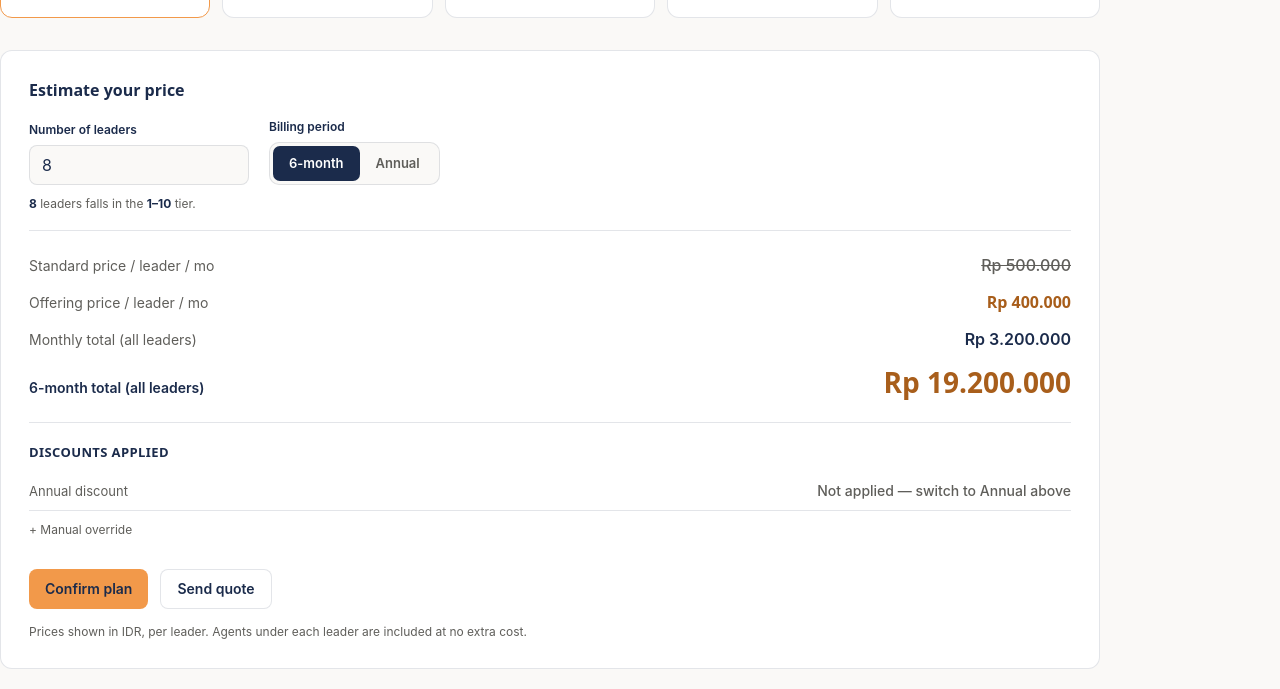
Test case: the quote tool (P13.2-T2) › AC-5: the manual override and its Fixes › sets the value to 0 when the type changes, and groups an amount as it is typed
(page scrolled)
Expected: the heading "Estimate your price" is shown, [29,79,185,101]
Click the heading "Manual override".
click(86, 530)  # box [40,522,132,537]
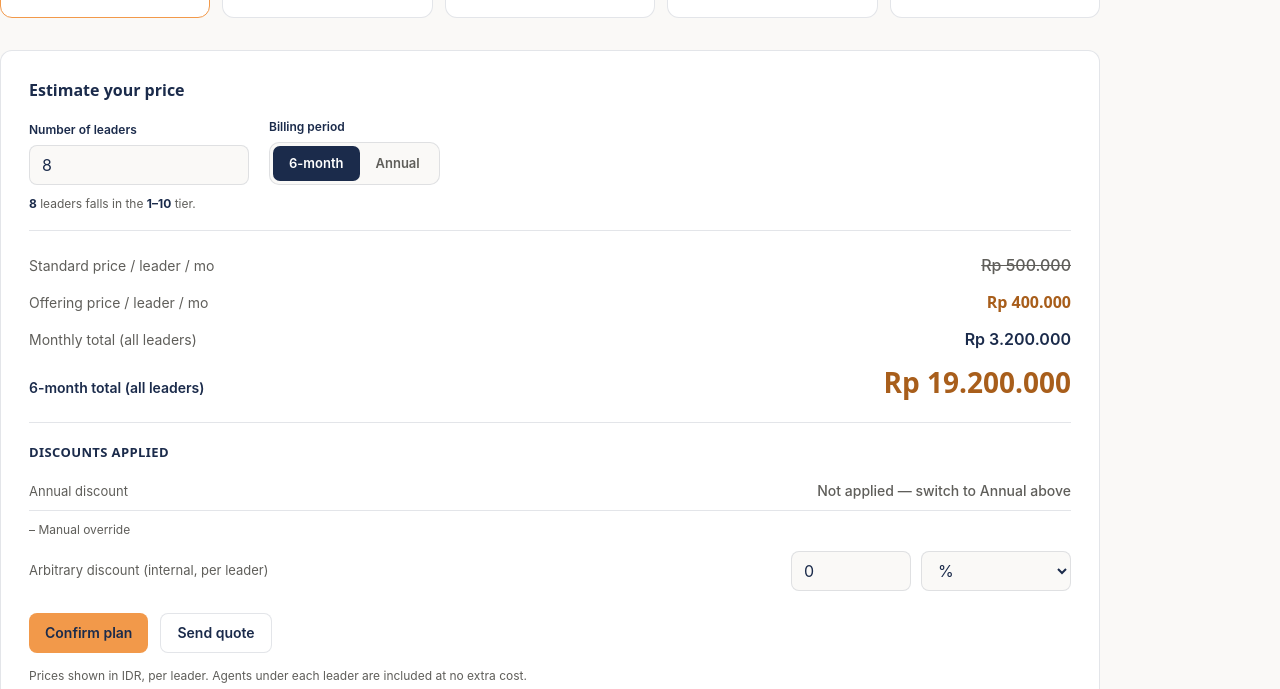
Replace the text in the field labelled "Arbitrary discount (internal, per leader)" with "50" at {"x": 851, "y": 571}, box [791,551,911,591]
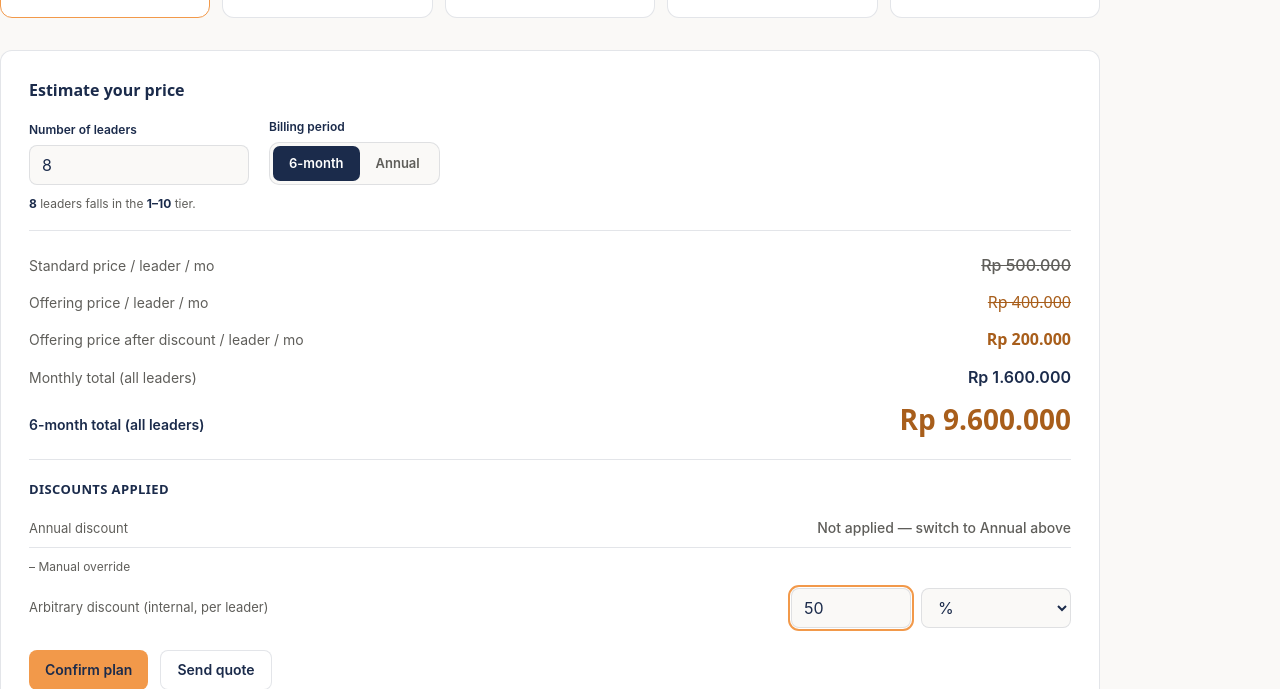
Select "Rp/leader" in the dropdown named "Discount type" at {"x": 996, "y": 608}, box [921,588,1071,628]
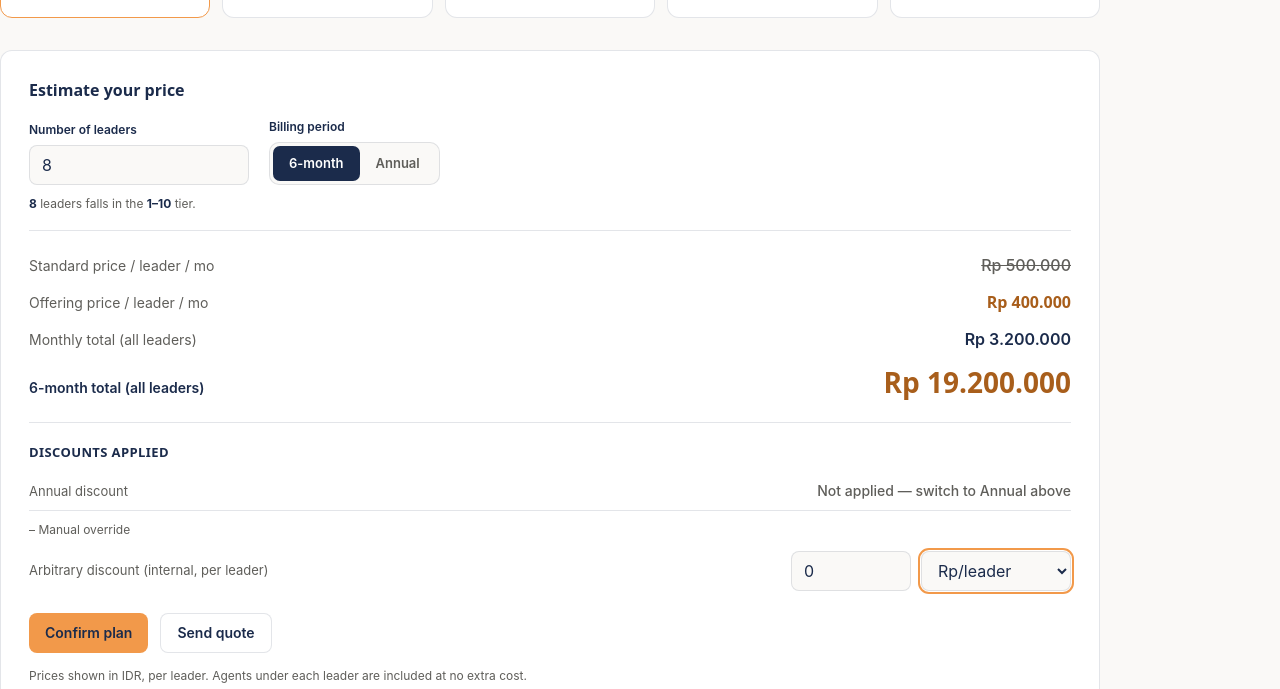
Expected: the field labelled "Arbitrary discount (internal, per leader)" holds "0", [791,551,911,591]
Replace the text in the number field labelled "Number of leaders" with "15" at {"x": 139, "y": 165}, box [29,145,249,185]
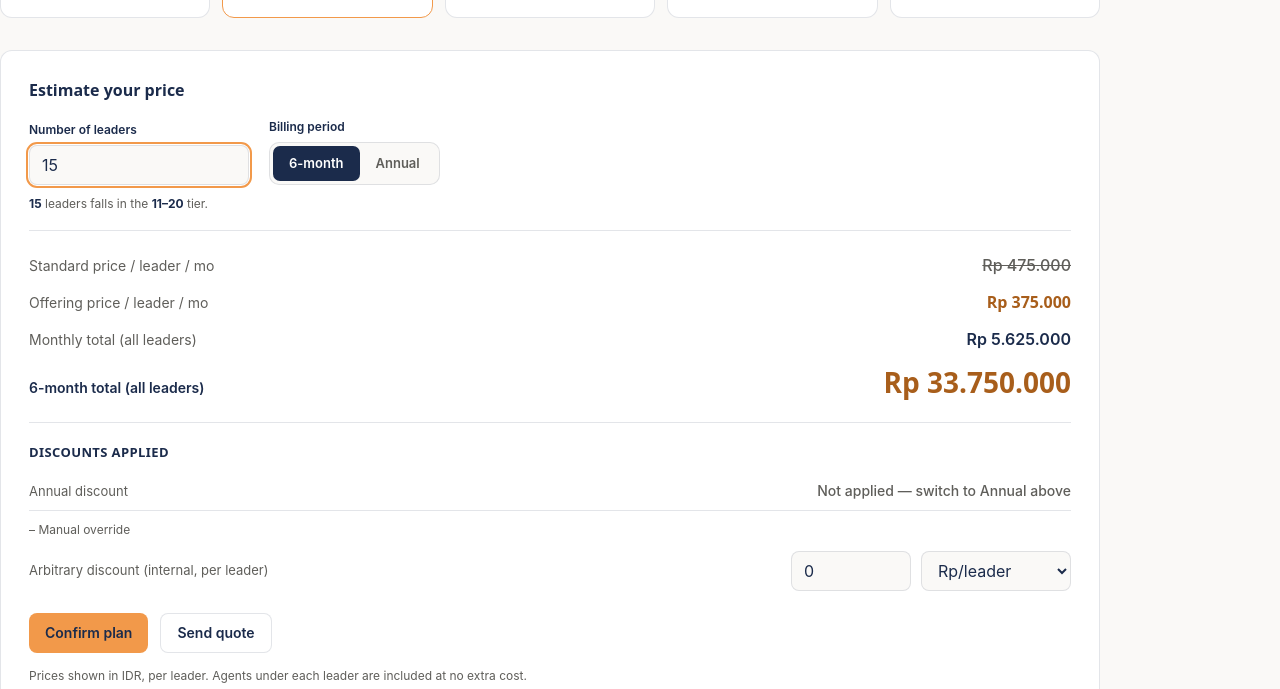
Replace the text in the field labelled "Arbitrary discount (internal, per leader)" with "25000" at {"x": 851, "y": 571}, box [791,551,911,591]
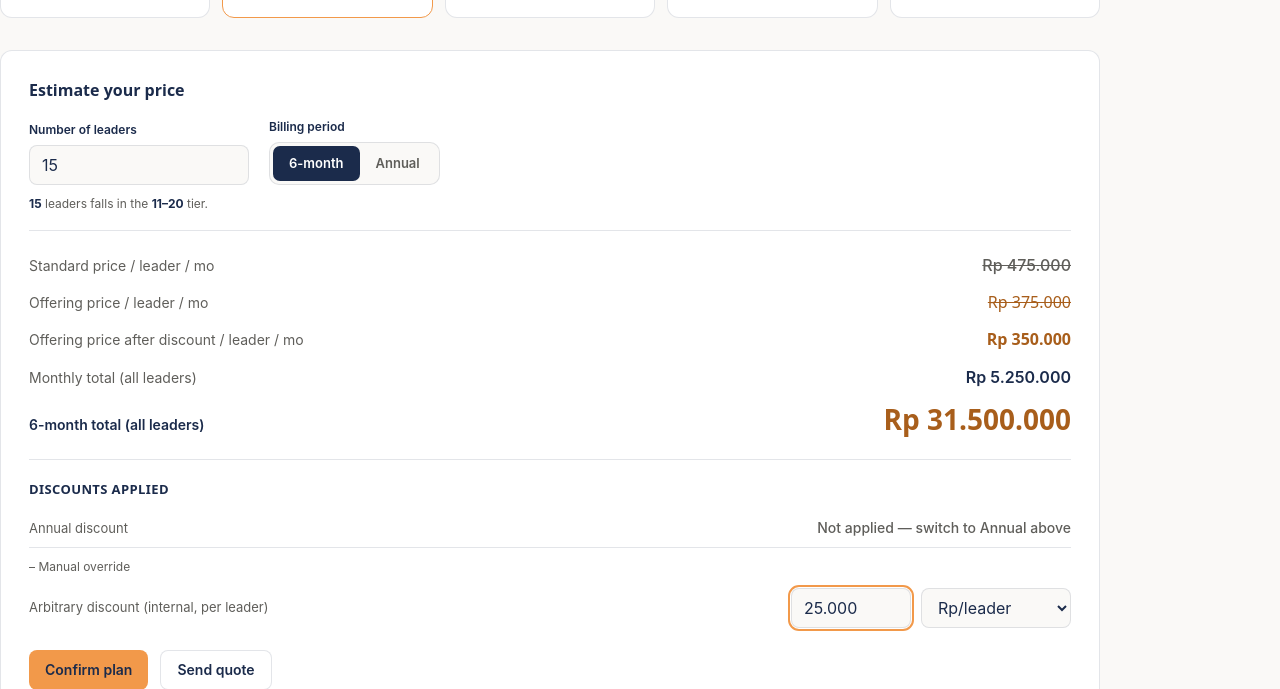
Expected: the field labelled "Arbitrary discount (internal, per leader)" holds "25.000", [791,588,911,628]
